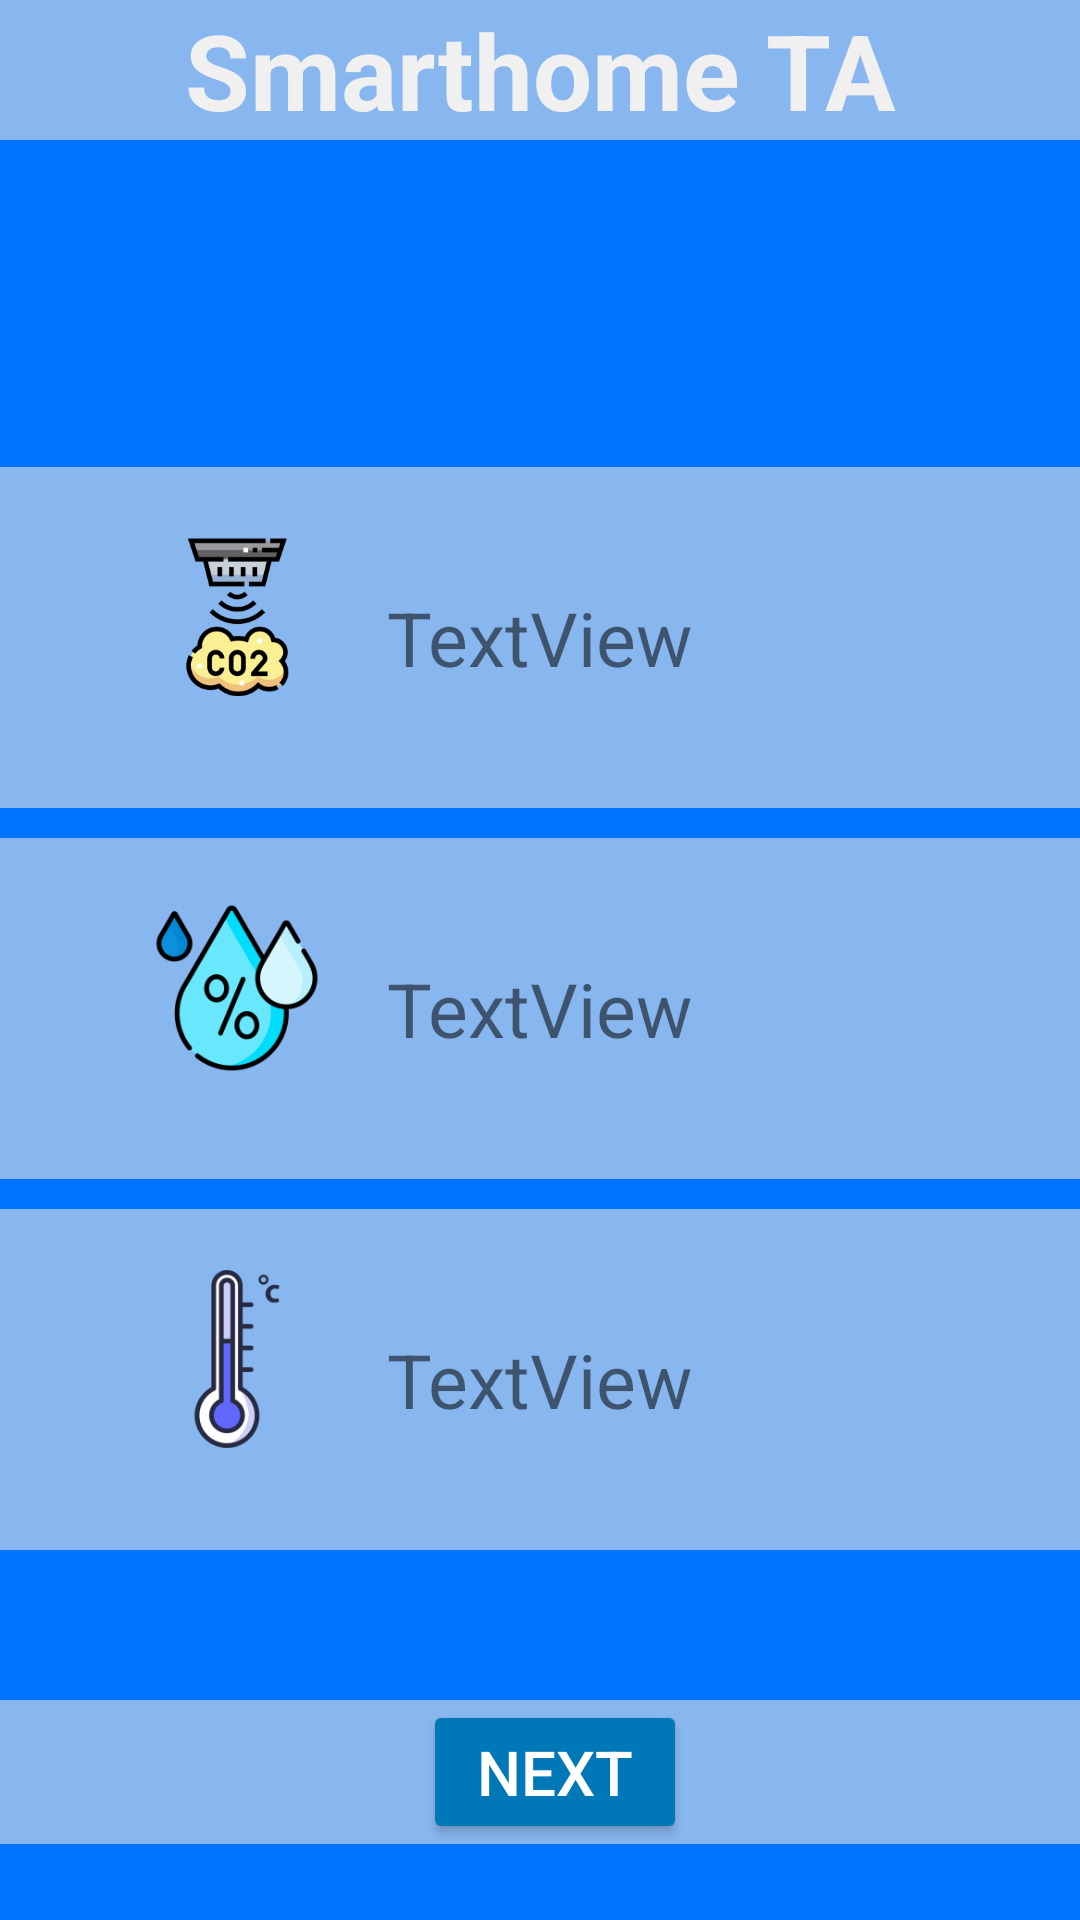

Named icons in this screenshot (1080w x 1920h) and their centers, (x,y):
gas: (237,617)
humidity: (237,988)
temperature: (237,1359)
